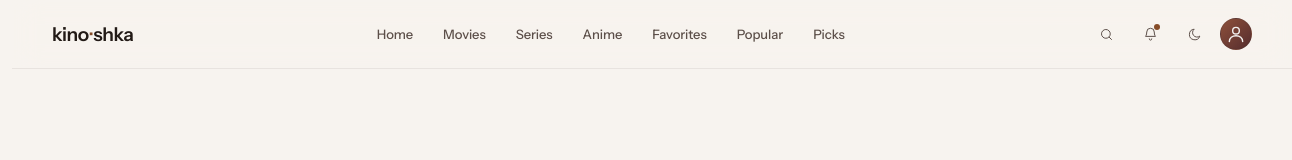
it: Header — nav pills синхронизируют ?type с фильтром/chips › клик по "Anime" на главной → /search?type=anime, фильтр и chip применяются
What coordinates should you click on to do the following:
click the button "Anime"
I would click on:
 (602, 34)
Its box is [568,17,636,51].
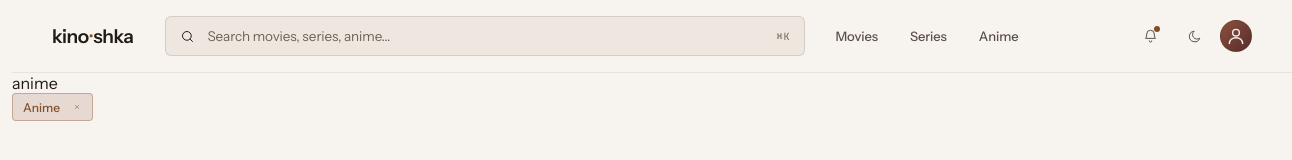
Expected: the text with test id "filter-type" reads "anime", [12,73,58,93]
Expected: the number of buttons "Anime" is 2, [965,19,1033,53]; [12,93,93,121]
